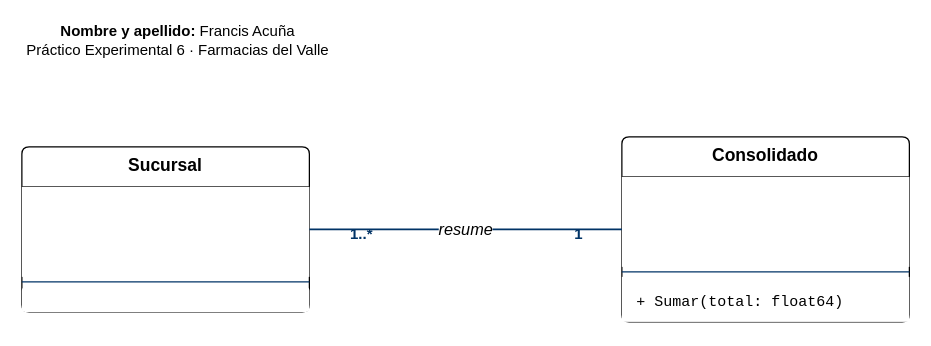
The diagram is 931 pixels wide and 346 high, and some of its shapes have lost their labels. Here are the shapes that lost their labels. From the top down, the centre of each, then its label:
At (x=165, y=231): "+ Nombre: string + Demora: time.Duration + Ventas: []float64".
At (x=765, y=221): "- mu: sync.Mutex + Total: float64 + Reportadas: int".
